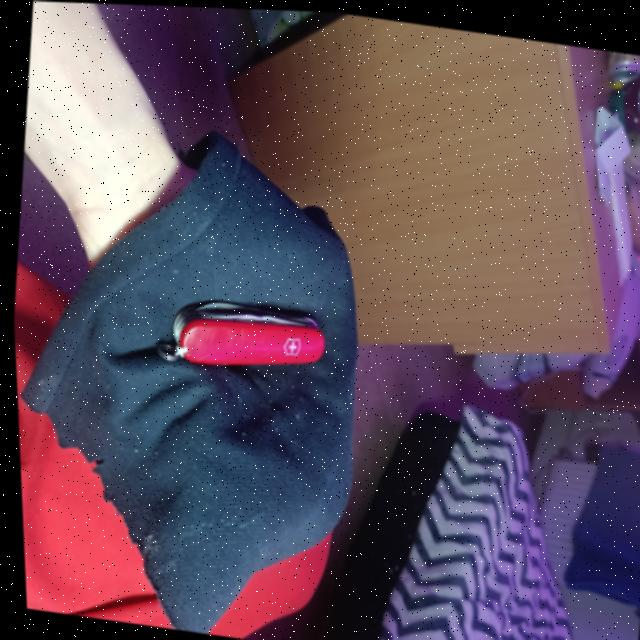knife victorinox: (153, 300, 320, 363)
